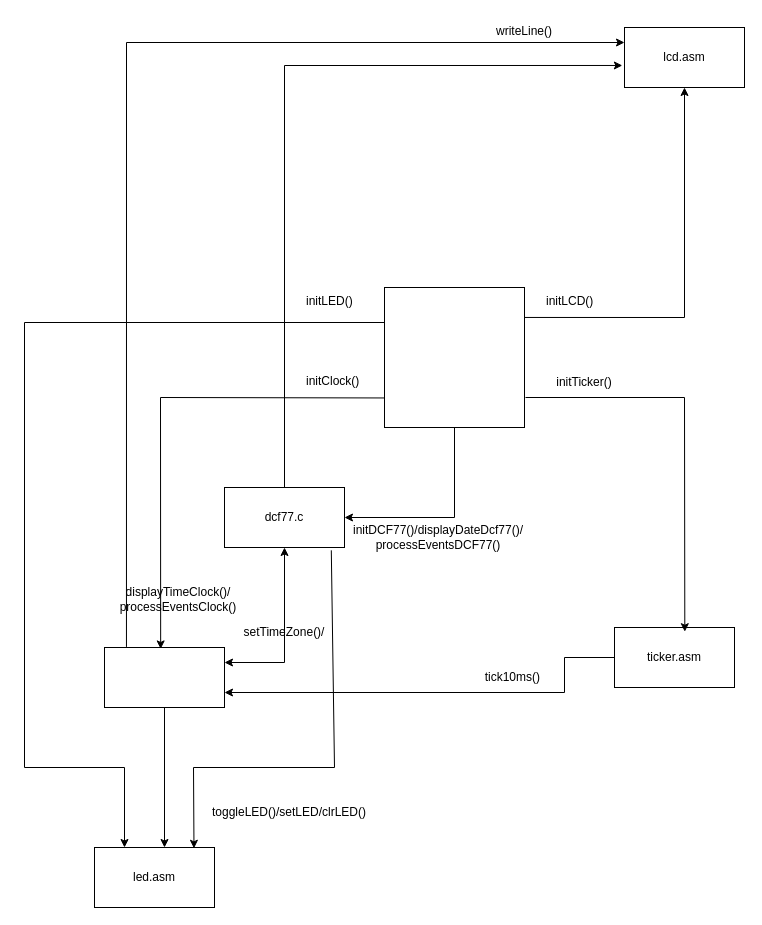
Image size: 762x925. Some labels were removed from this diagram. Here are the shapes that lost their labels. From the top down, the centre of each, then its label:
At [454,357]: "main.c".
At [164,677]: "clock.c".
